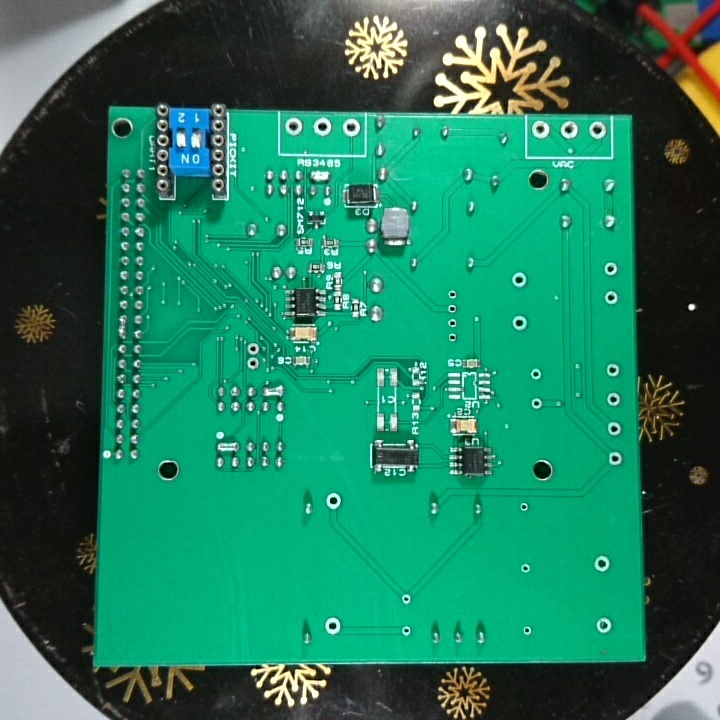F: (321, 615, 345, 639), (339, 116, 362, 140), (558, 117, 579, 140), (323, 489, 344, 512), (530, 119, 551, 140), (284, 114, 303, 137), (508, 271, 531, 290), (605, 446, 623, 470), (510, 312, 531, 332), (592, 554, 613, 574), (588, 118, 607, 140), (313, 116, 332, 138), (601, 259, 623, 278), (595, 614, 613, 634), (602, 288, 620, 307), (604, 360, 622, 379), (605, 419, 623, 438), (527, 363, 544, 383), (244, 355, 262, 373), (519, 559, 536, 577), (528, 395, 544, 414), (445, 313, 461, 332), (399, 620, 414, 640), (606, 390, 623, 407), (398, 589, 415, 606), (245, 339, 262, 356), (517, 498, 531, 516), (521, 624, 536, 639), (445, 286, 461, 300), (445, 300, 459, 314), (446, 329, 459, 344)
P: (114, 312, 131, 343), (308, 166, 337, 184), (258, 384, 287, 398), (214, 441, 240, 455)
